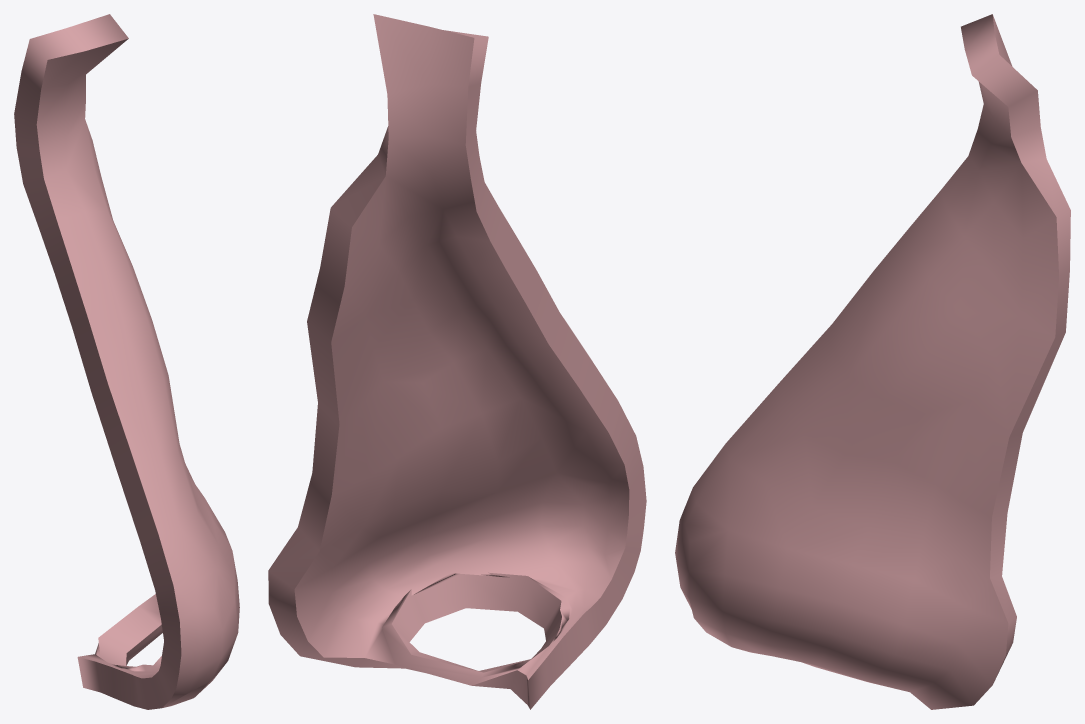
3 renders of one model, left to right at view 1: azimuth 30°, elevation 25°; view 2: azimuth 150°, elevation 25°; view 3: azimuth 270°, elevation 25°, orthographic. The views are drawn at different scales.
Parts seen in each view (by area): view 1: ZA_3437094836eb56ee; view 2: ZA_3437094836eb56ee; view 3: ZA_3437094836eb56ee.
Part boxes in pixels (box(x1,y1,x2,y2)): ZA_3437094836eb56ee: box(14, 14, 239, 709); ZA_3437094836eb56ee: box(268, 14, 646, 709); ZA_3437094836eb56ee: box(675, 14, 1070, 709).
Bounding box in the file's own units: 0.0186 × 0.0627 × 0.0344.
